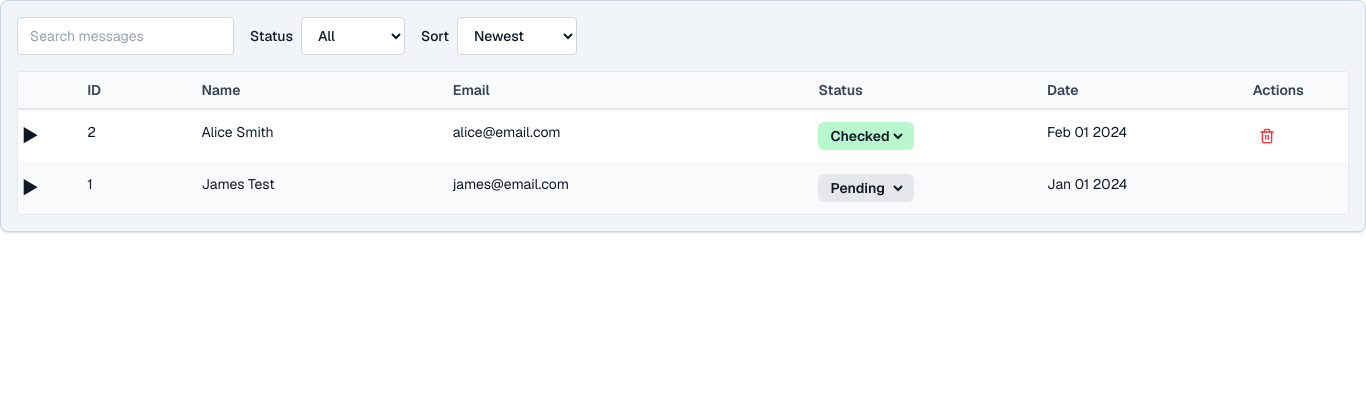
Scenario: clicking expand again collapses message details
Click the button named "expand-row".
click(30, 188)  # box [22,174,38,202]
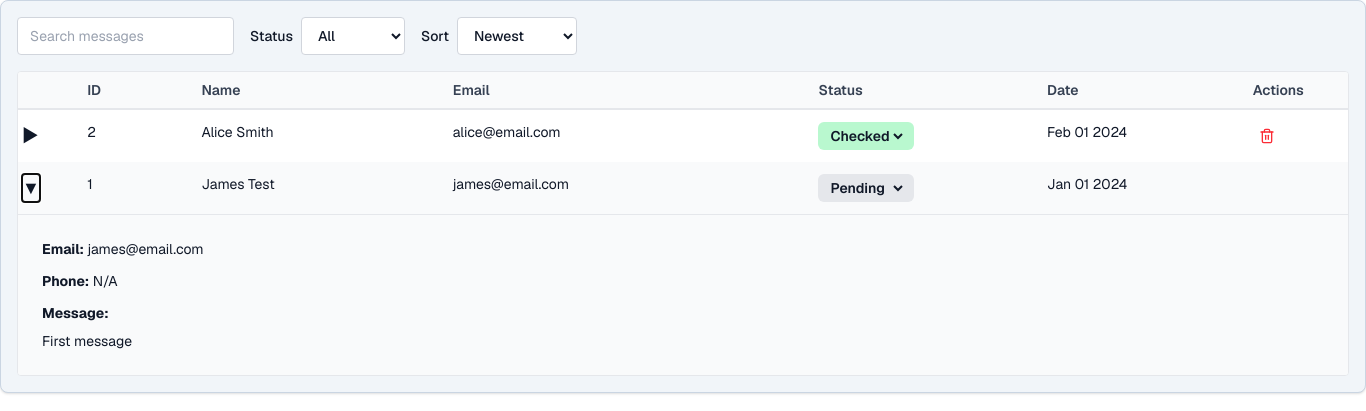
Check: the text "First message" is shown, box [42,332,132,350]
Click the button named "expand-row".
click(31, 188)  # box [22,174,40,202]
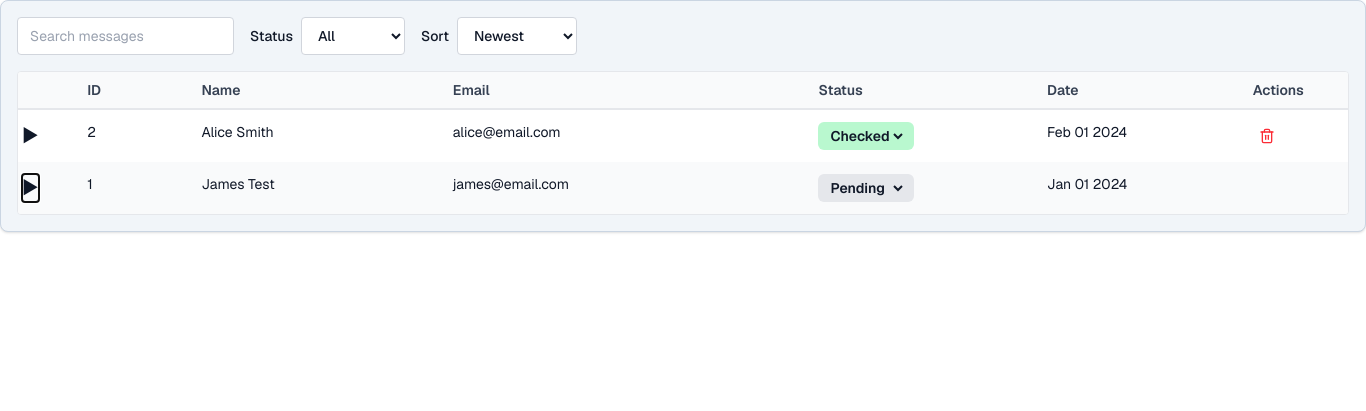
Check: the text "First message" is gone
